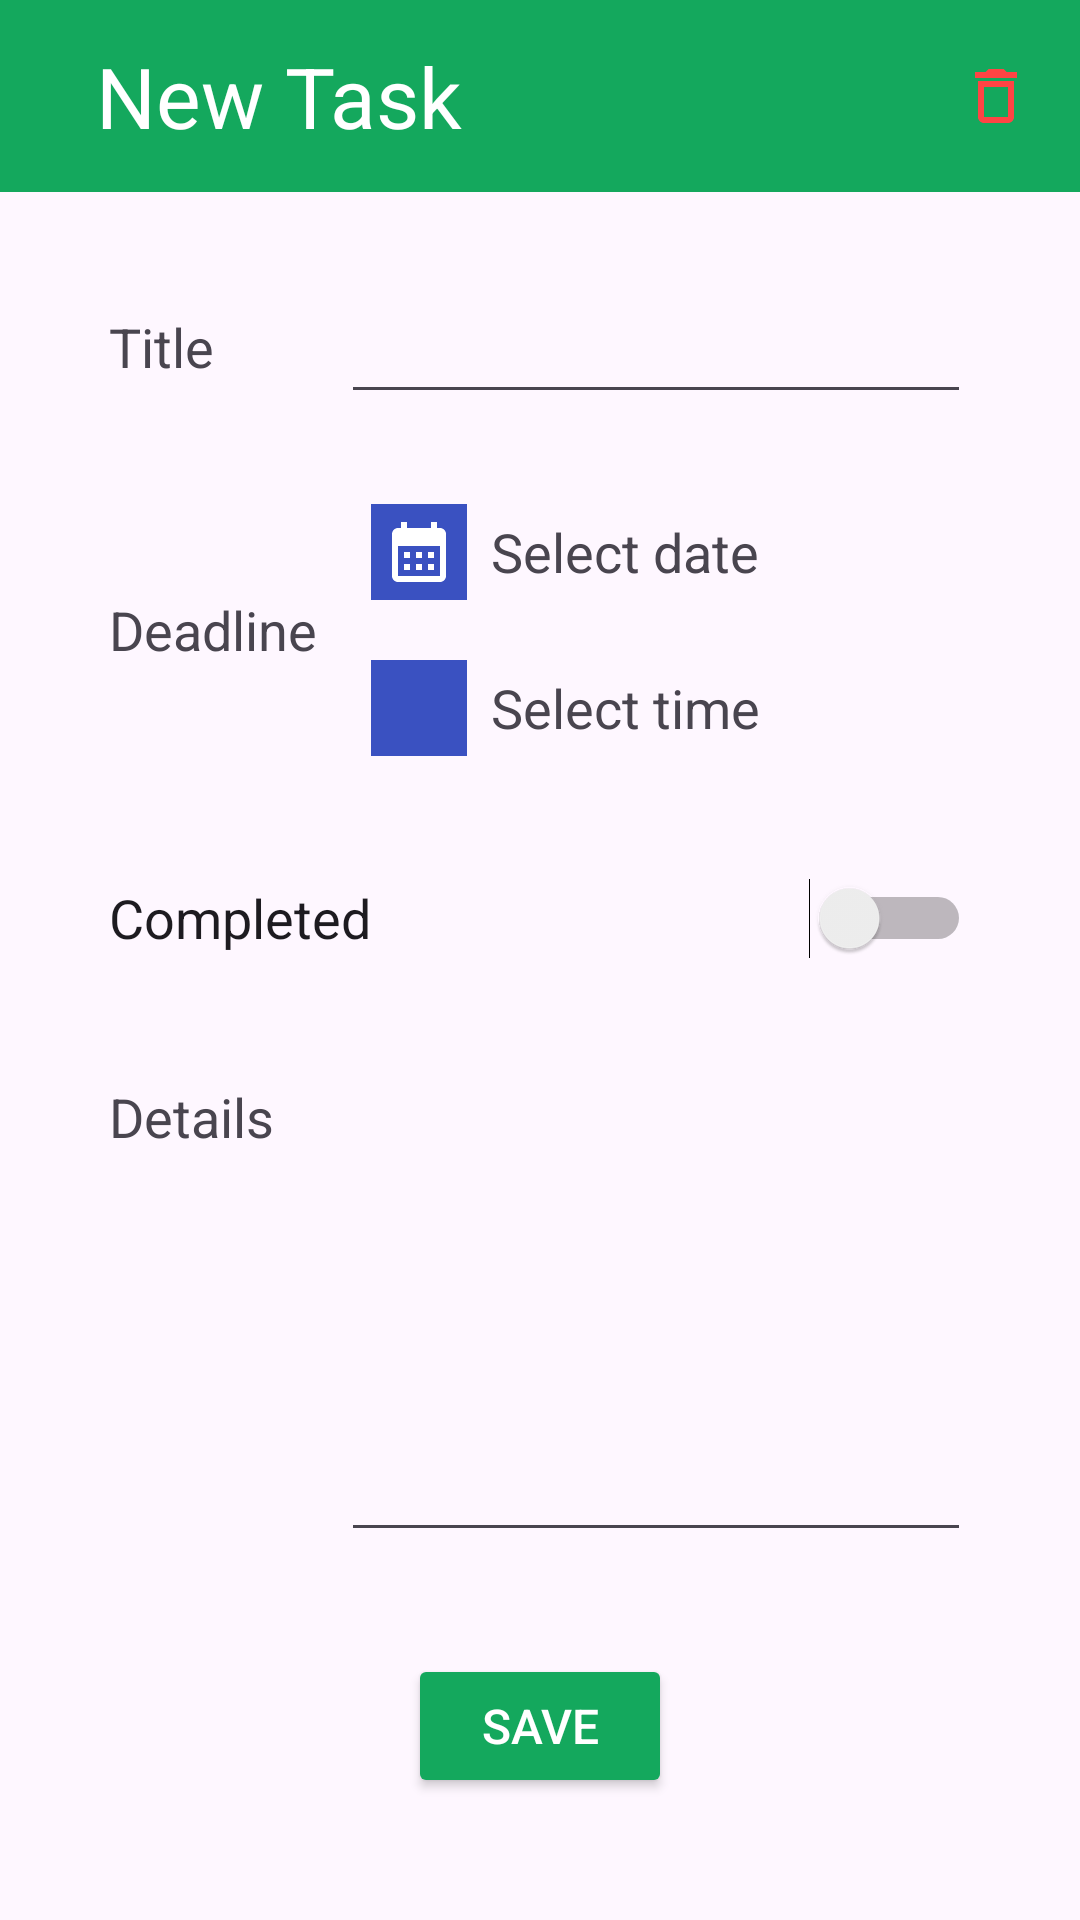

Icons on this 1080px x 1920px Android screen, each with the point to tap as (x=x, y=y):
calendar month: (x=419, y=552)
delete: (x=996, y=96)
